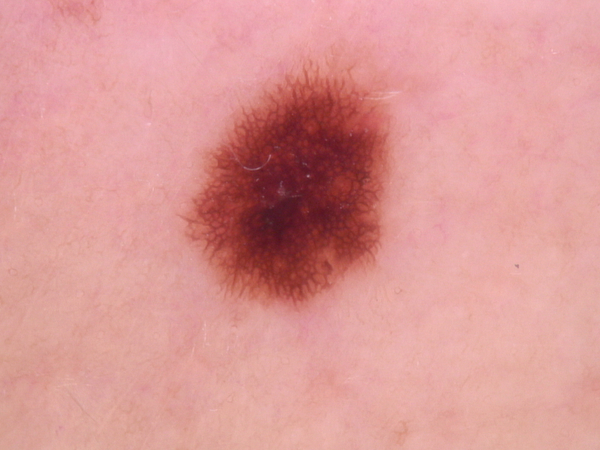Detected Lesion: (178, 63, 396, 310)
